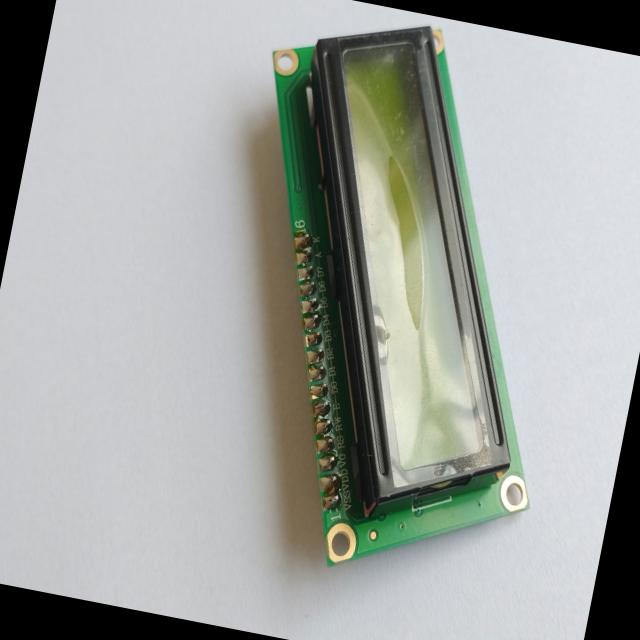lcd: (177, 0, 616, 603)
